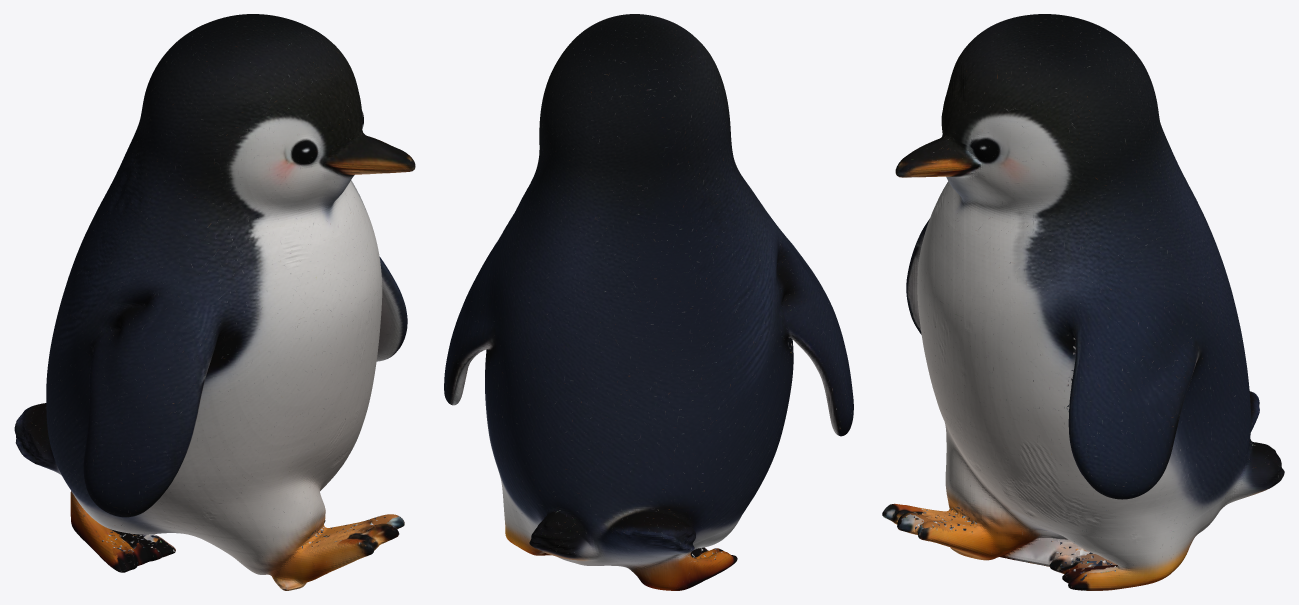
3 views of the same model, side by side, from view 1: azimuth 30°, elevation 25°; view 2: azimuth 150°, elevation 25°; view 3: azimuth 270°, elevation 25° (orthographic). The views are drawn at different scales.
Parts seen in each view (by area): view 1: world; view 2: world; view 3: world.
Boxes of the visible parts, <box> form: world: <box>14,14,415,590</box>; world: <box>444,14,853,590</box>; world: <box>882,14,1284,590</box>.
Bounding box in the file's own units: 0.9986 × 1.39 × 0.957.
Materials: 1 (1 with a texture image).
